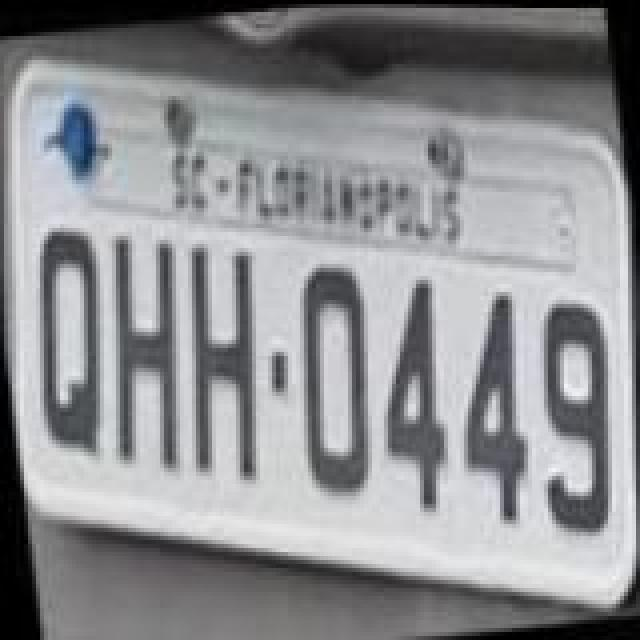4: (438, 286, 538, 530), (364, 270, 460, 514)
9: (518, 290, 630, 538)
H: (164, 230, 276, 486), (92, 226, 200, 478)
O: (278, 258, 386, 502)
Q: (16, 216, 116, 464)
